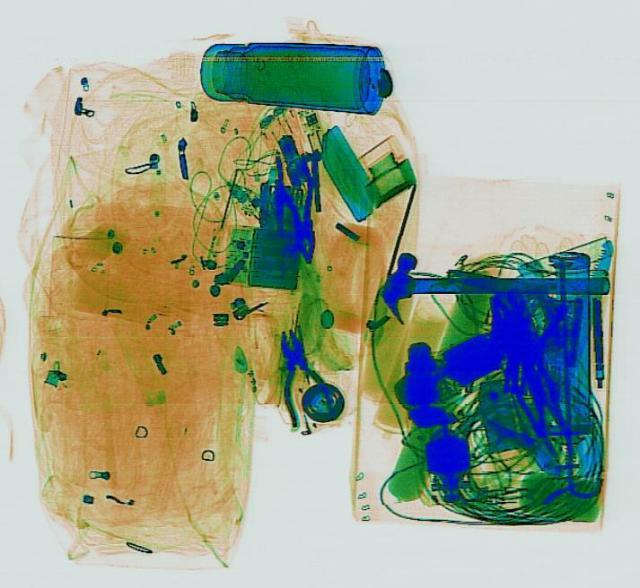Pliers: (262, 322, 336, 426), (268, 149, 332, 266)
